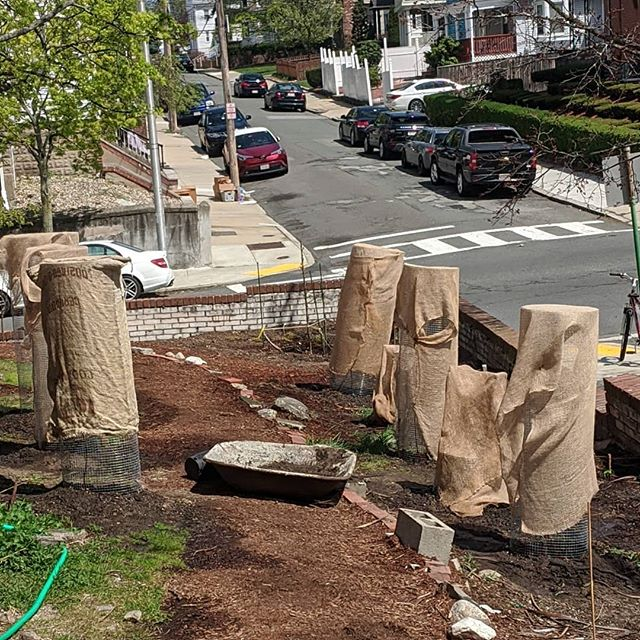car: (5, 230, 170, 317), (434, 115, 540, 197), (221, 124, 291, 180), (364, 112, 427, 161), (399, 123, 455, 174), (196, 107, 249, 149), (339, 104, 390, 140), (260, 78, 311, 114), (233, 69, 273, 100)
crosswalk: (318, 194, 636, 291)
street: (211, 82, 640, 368)
tree: (1, 1, 187, 233)
